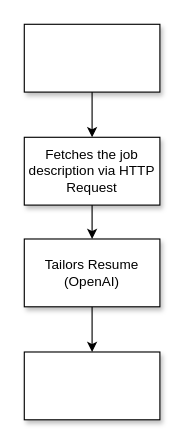
The diagram is 186 pixels wide and 447 high, and some of its shapes have lost their labels. Each missing label, with the centre of its shape:
"Email back to user (Gmail)" belongs at pixel 93 387.
"User fills out the form: resume, job link, targeted role, email address" belongs at pixel 93 59.
